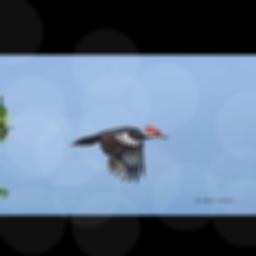Woodpecker: (68, 125, 168, 183)
